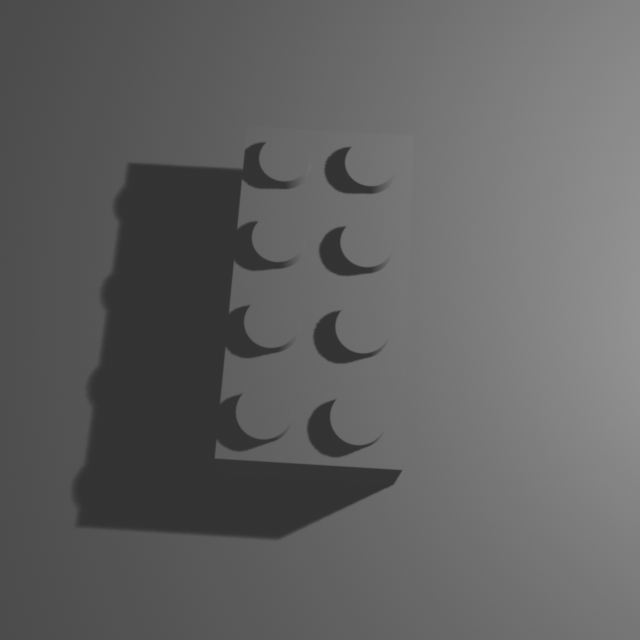lego_2x4: (213, 118, 415, 485)
